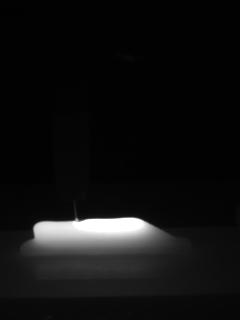tip_wire_left: (57, 197, 77, 221)
tip_wire_right: (76, 196, 87, 221)
